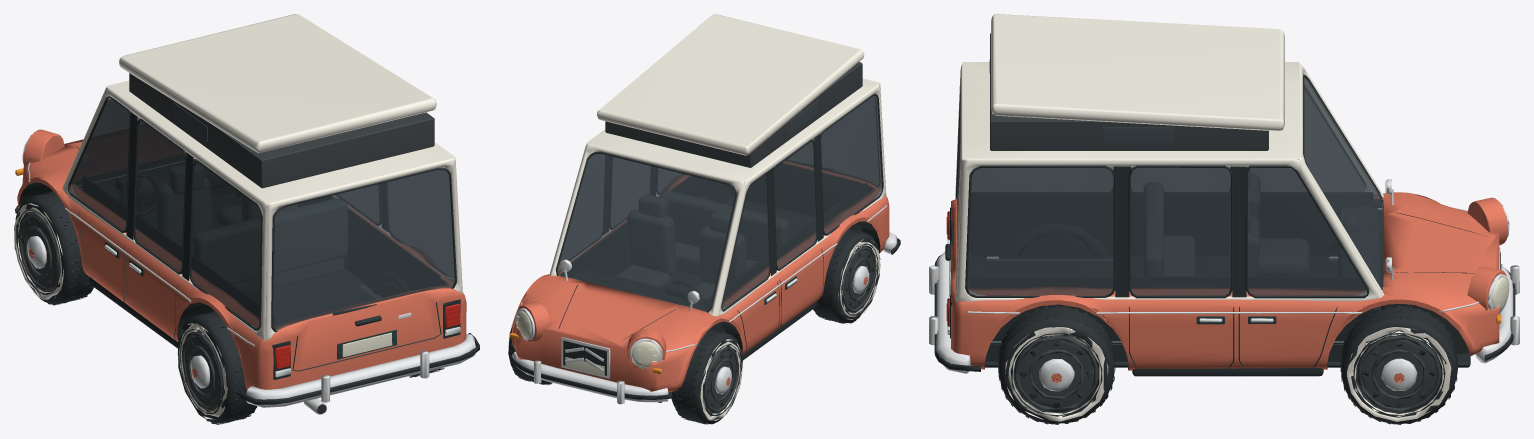
File: camper_lod2.fbx
The picture shows the model from 3 angles, left to right: view 1: azimuth 30°, elevation 25°; view 2: azimuth 150°, elevation 25°; view 3: azimuth 270°, elevation 25°; orthographic projection. The views are drawn at different scales.
Parts seen in each view (by area): view 1: Body, Wheel_FL_Mesh, Wheel_RL_Mesh, Wheel_RR_Mesh; view 2: Body, Wheel_FL_Mesh, Wheel_RL_Mesh; view 3: Body, Wheel_FR_Mesh, Wheel_RR_Mesh, Wheel_RL_Mesh.
Boxes of the visible parts, x1,y1,x2,y2 form: Body: [15, 14, 479, 414]; Wheel_FL_Mesh: [14, 191, 93, 305]; Wheel_RL_Mesh: [177, 311, 257, 424]; Wheel_RR_Mesh: [372, 272, 444, 377]; Body: [509, 14, 900, 404]; Wheel_FL_Mesh: [671, 329, 743, 424]; Wheel_RL_Mesh: [813, 228, 880, 323]; Body: [929, 14, 1519, 376]; Wheel_FR_Mesh: [1340, 305, 1457, 424]; Wheel_RR_Mesh: [998, 305, 1115, 424]; Wheel_RL_Mesh: [999, 224, 1113, 258].
Bounding box in the file's own units: 207 × 240 × 414.
